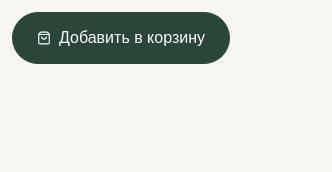
Test: AddToCartButton › dispatches addToCart and confirms the action
Click the button "Добавить в корзину" at (121, 38), box [12,12,230,64]
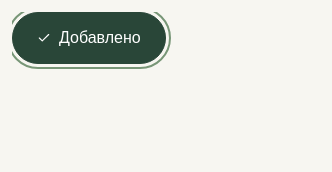
Result: the button "Добавлено" is shown at [12,12,166,64]
